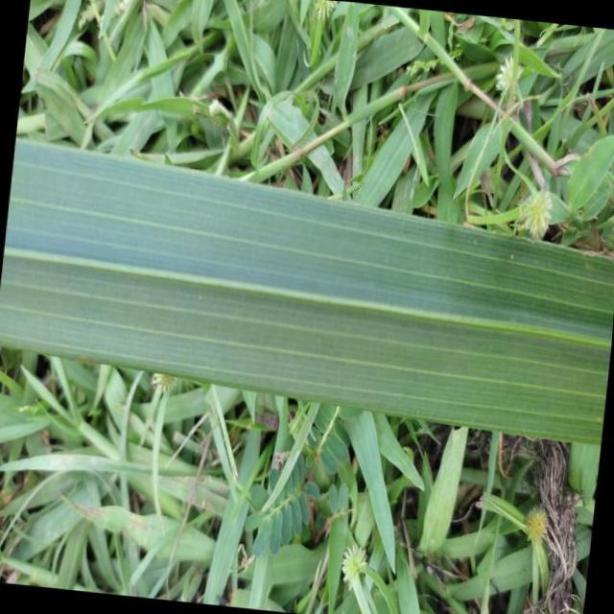Healthy: (3, 135, 614, 445)
